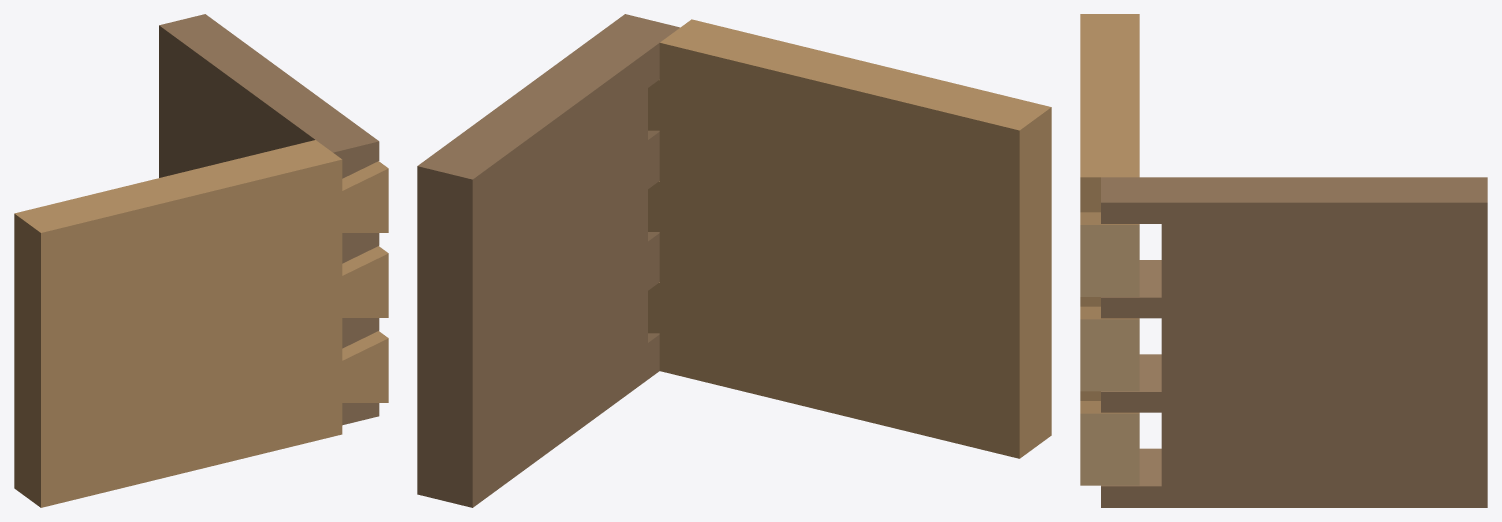
3 renders of one model, left to right at view 1: azimuth 30°, elevation 25°; view 2: azimuth 150°, elevation 25°; view 3: azimuth 270°, elevation 25°, orthographic. The views are drawn at different scales.
Parts seen in each view (by area): view 1: WholeIntegralThreeDovetailBoard, WholeWideningSocketCornerBoard; view 2: WholeIntegralThreeDovetailBoard, WholeWideningSocketCornerBoard; view 3: WholeWideningSocketCornerBoard, WholeIntegralThreeDovetailBoard.
Part boxes in pixels (x1,y1,x2,y2): WholeIntegralThreeDovetailBoard: (14, 140, 388, 507); WholeWideningSocketCornerBoard: (159, 14, 379, 425); WholeIntegralThreeDovetailBoard: (648, 19, 1051, 458); WholeWideningSocketCornerBoard: (417, 14, 679, 507); WholeWideningSocketCornerBoard: (1101, 177, 1487, 507); WholeIntegralThreeDovetailBoard: (1080, 14, 1139, 485).
Size of the model in its own units: 0.45 by 0.34 by 0.411.
